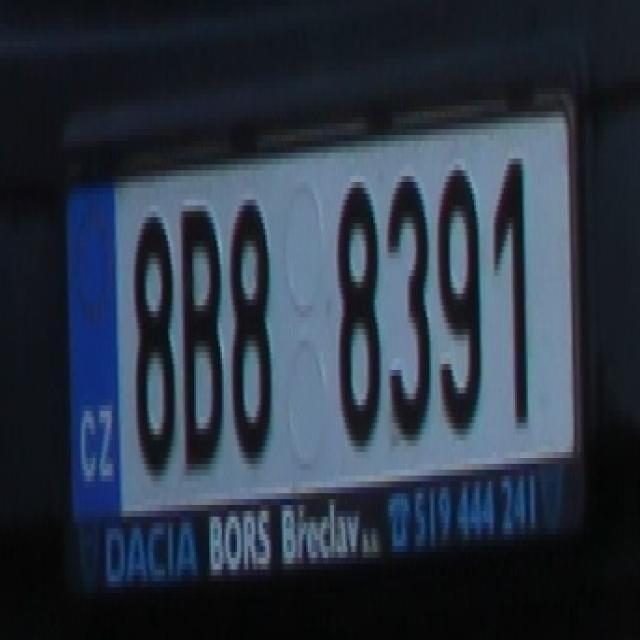1: (491, 147, 532, 423)
3: (386, 170, 431, 429)
8: (334, 164, 382, 464), (230, 193, 276, 452), (134, 211, 172, 470)
9: (434, 158, 486, 434)
B: (179, 200, 226, 470)
